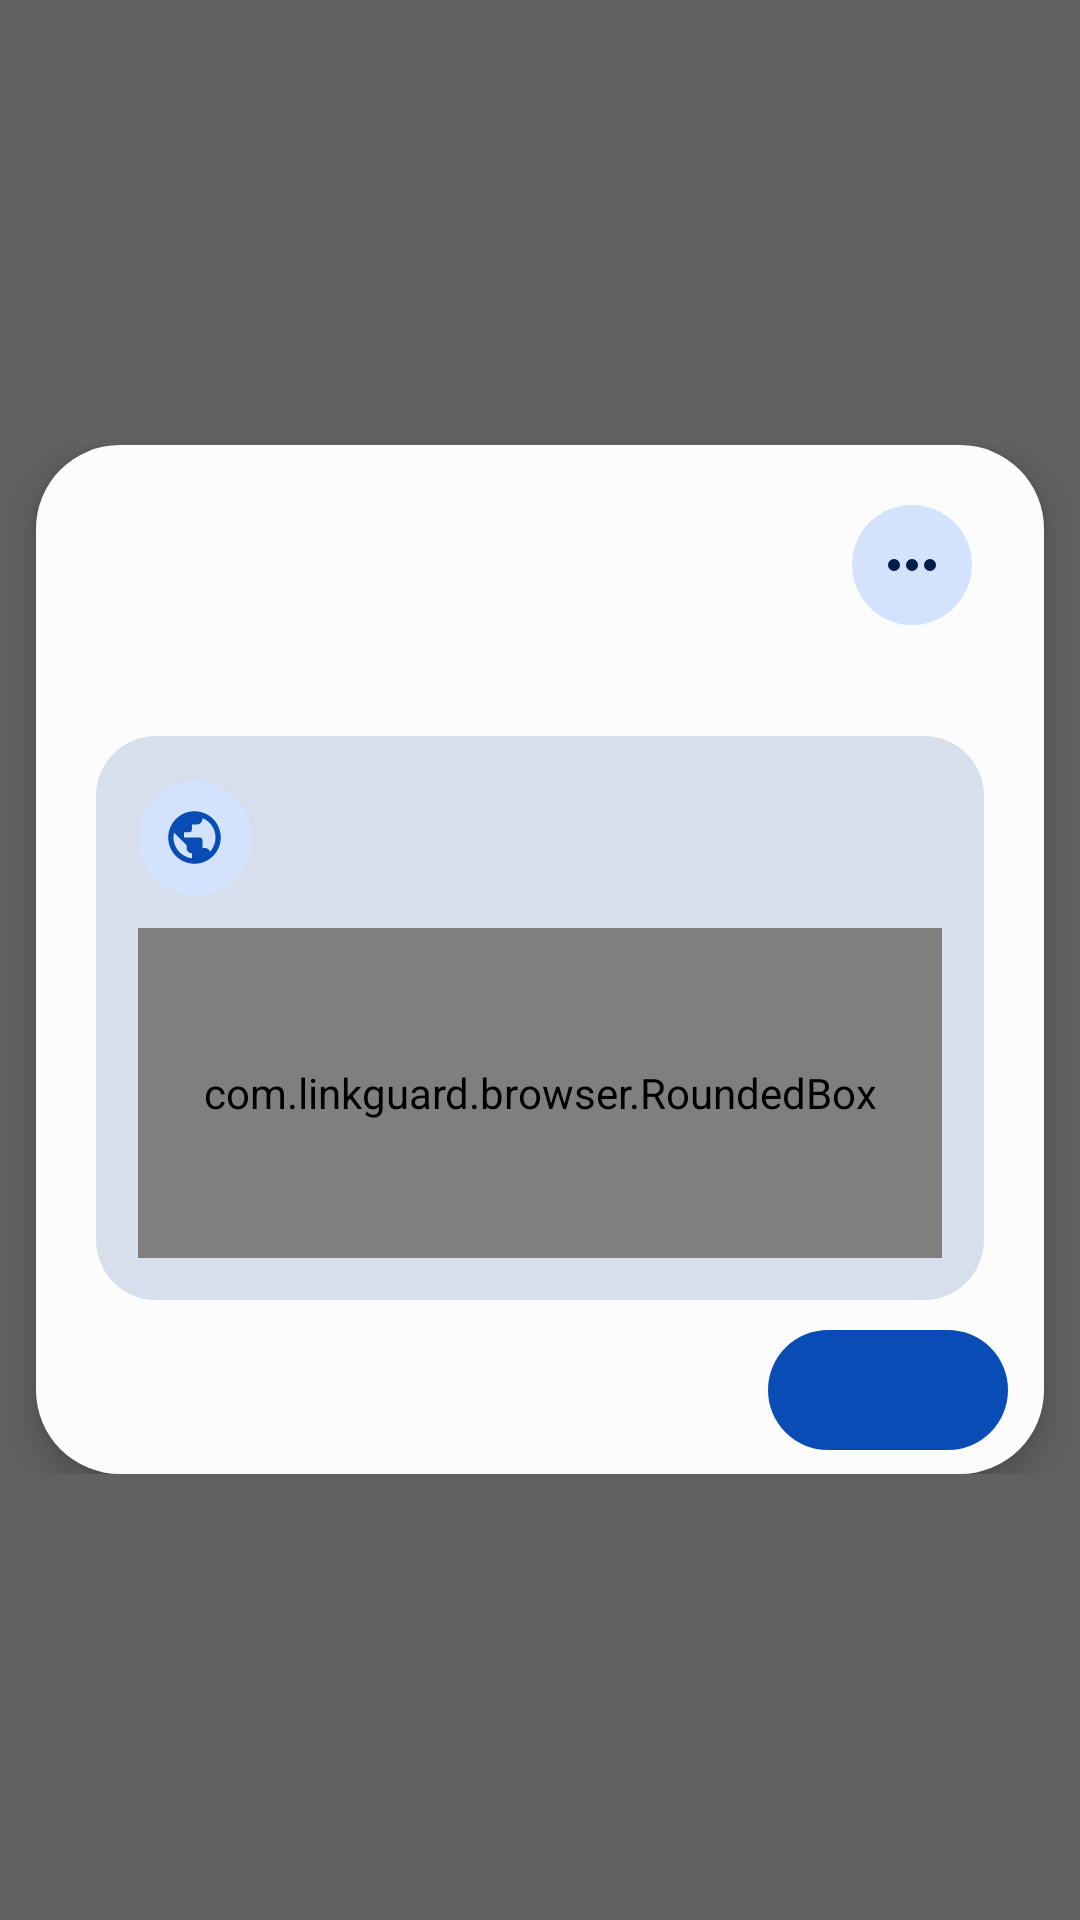

Icon click points for this 1080w x 1920h phone screenshot, format point (x, y):
globe: point (194, 837)
more: point (912, 565)
